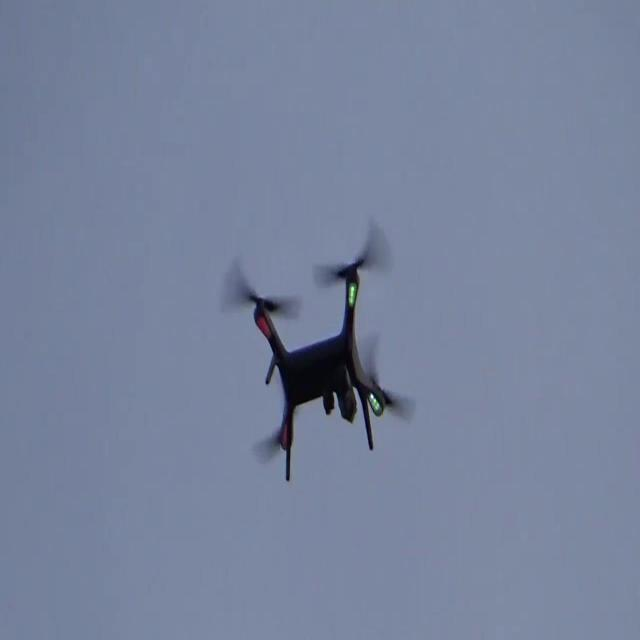UAV: (224, 220, 416, 482)
